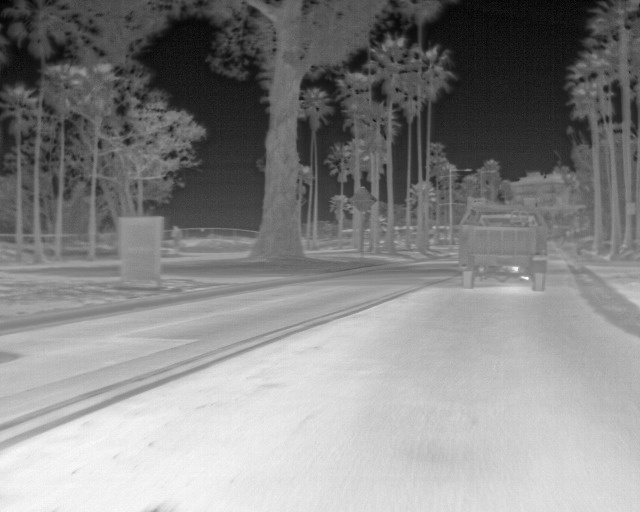vehicle: (458, 206, 546, 290)
